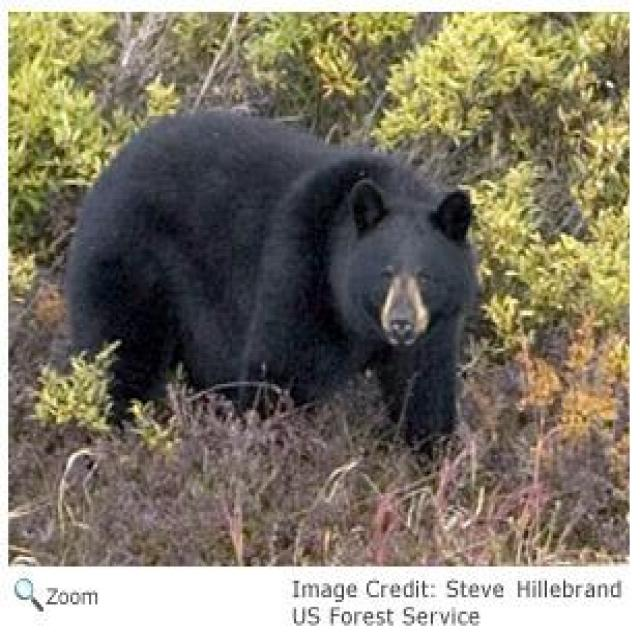Bear: (64, 109, 481, 446)
